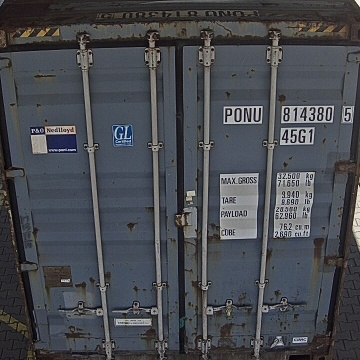serial_id: (224, 107, 353, 122)
